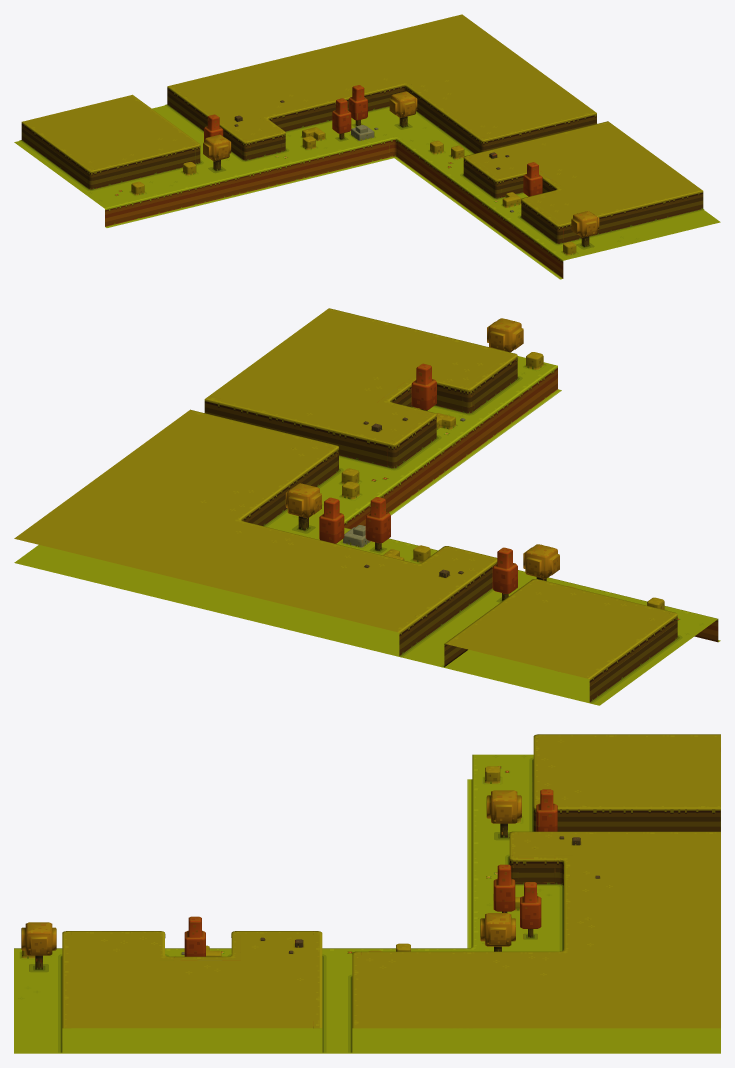
Rendered from C_grass2_out_LD.fbx.
3 views of the same model, one above another, from view 1: azimuth 30°, elevation 25°; view 2: azimuth 150°, elevation 25°; view 3: azimuth 270°, elevation 25° (orthographic). The views are drawn at different scales.
Visible parts, largest first — view 1: C_grass2_out_LD; view 2: C_grass2_out_LD; view 3: C_grass2_out_LD.
Boxes of the visible parts, x1,y1,x2,y2 form: C_grass2_out_LD: (14,14,720,279); C_grass2_out_LD: (14,308,720,705); C_grass2_out_LD: (14,734,720,1053).
Bounding box in the file's own units: 117 × 14.32 × 117.
